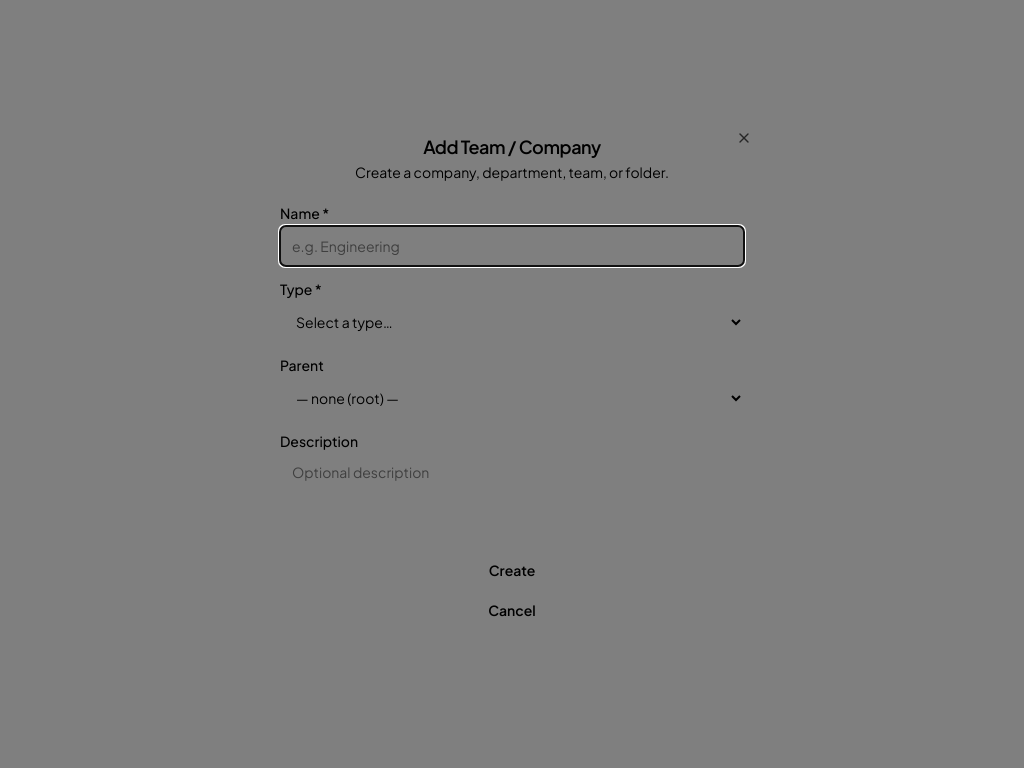
AddTeamModal › (5) blocks submit when Type is not Company but Parent=root
Type "Orphan Team" into the field labelled "Name *" at (512, 246), box [280, 226, 744, 266]
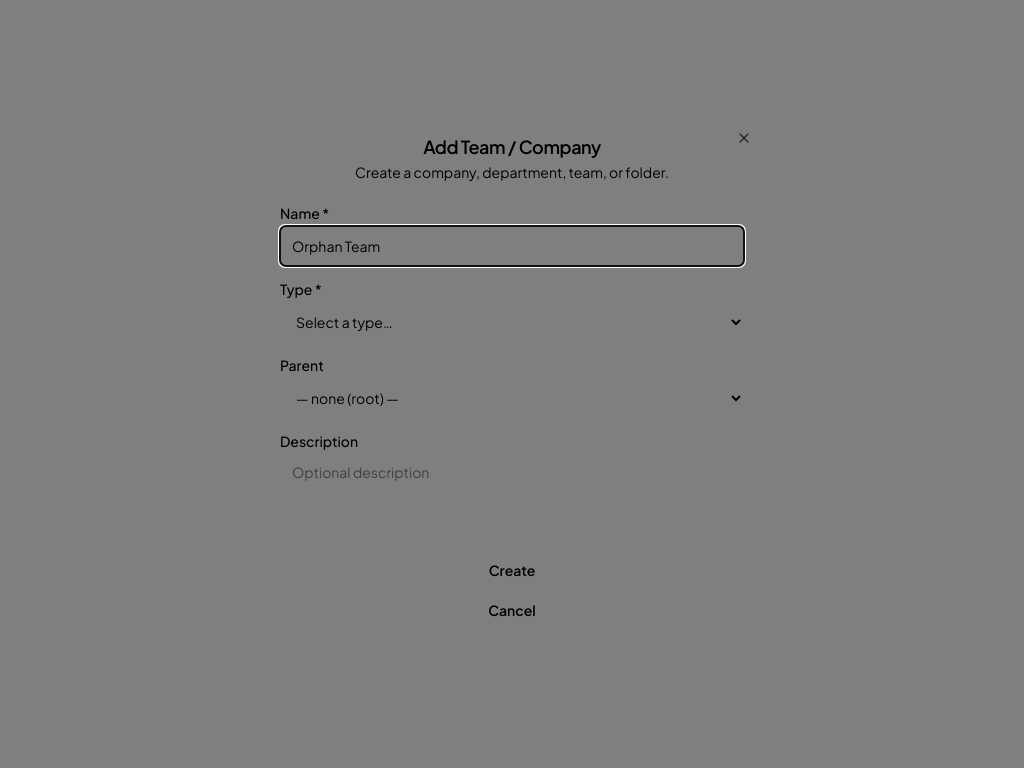
Select "Team" in the dropdown with test id "select-type" at (512, 322), box [280, 302, 744, 342]
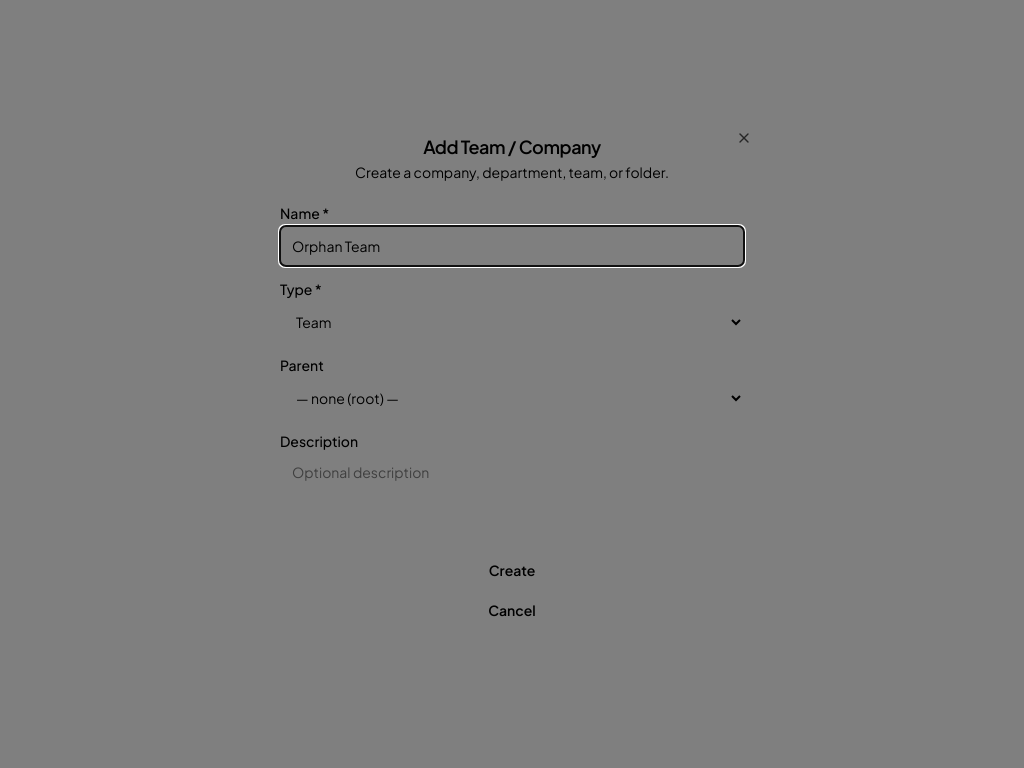
Attempt submit
Click the button "Create" at (512, 570), box [280, 550, 744, 590]
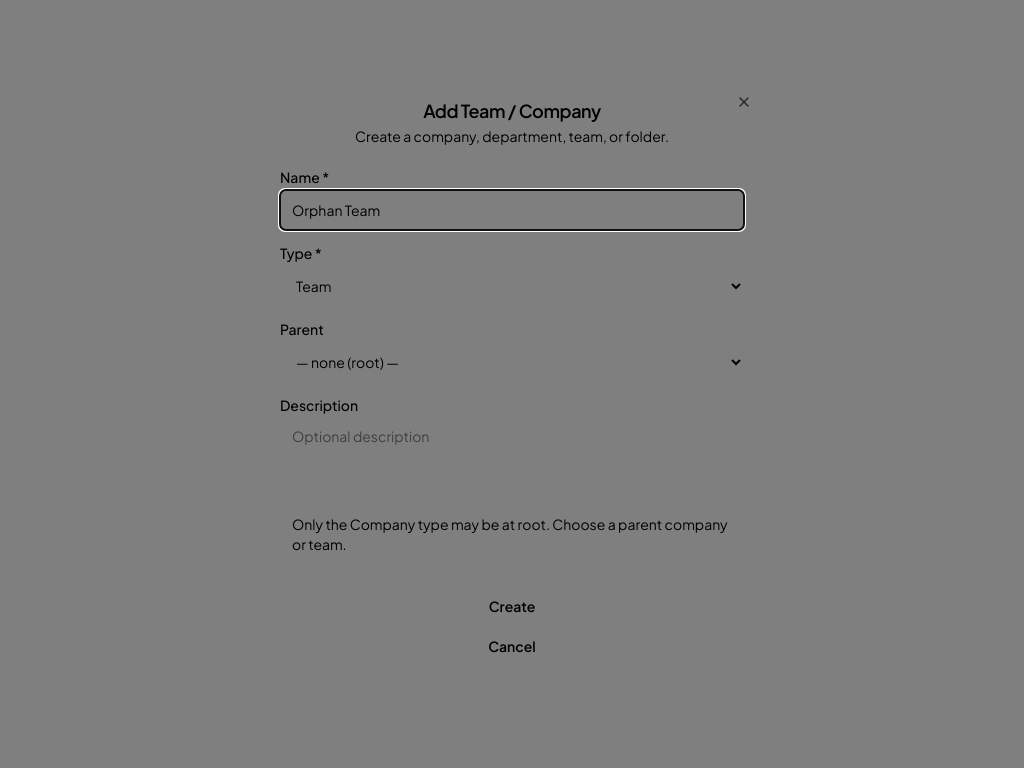
Now the message reads "Only the Company type may be at root. Choose a parent company or team.", box [292, 515, 728, 553]
